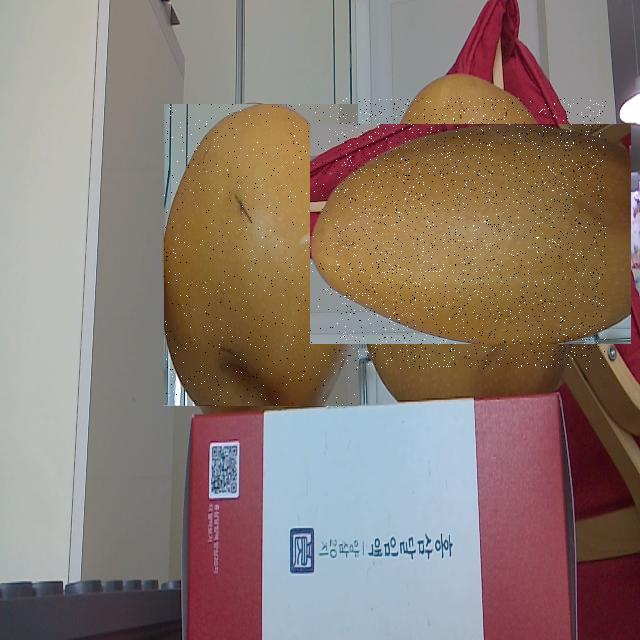pear: (335, 98, 606, 369), (164, 104, 358, 406)
